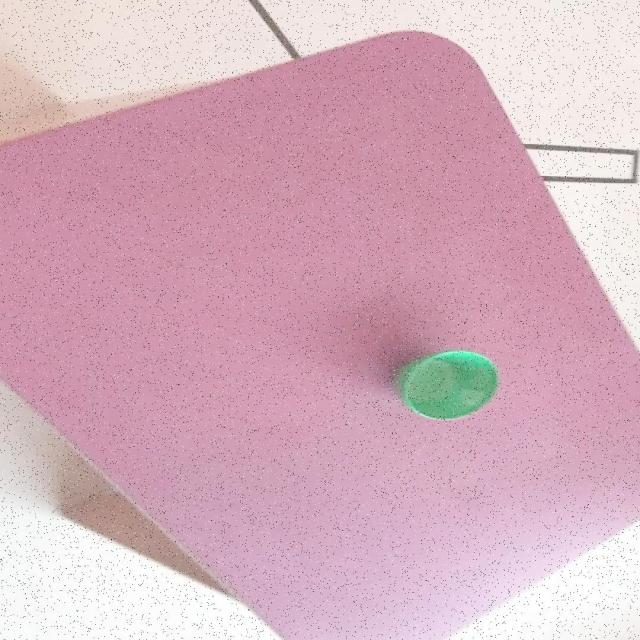Bowl: (0, 27, 640, 640), (396, 349, 500, 421)
